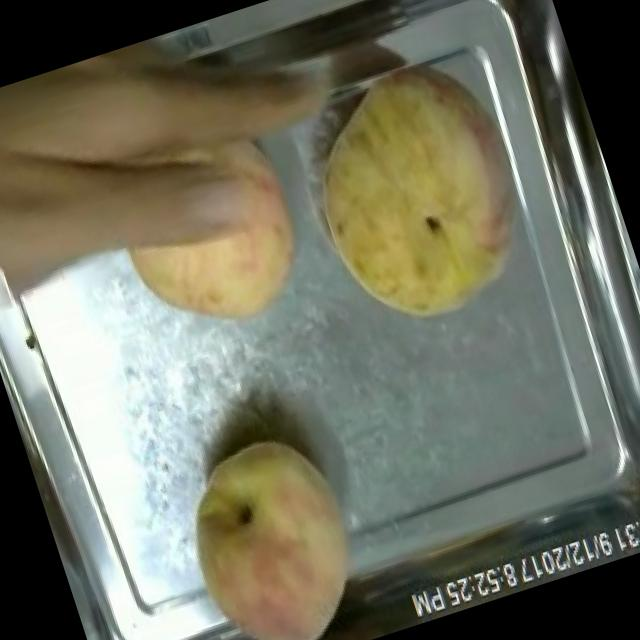Fruit: (279, 36, 569, 351), (90, 109, 332, 359), (157, 412, 392, 640)
